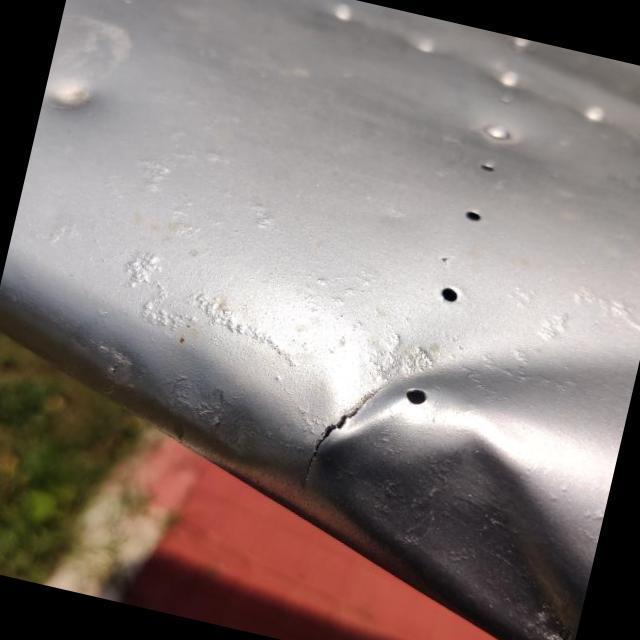Missing Fastener: (430, 276, 466, 314), (402, 373, 434, 411), (458, 196, 488, 234), (474, 151, 502, 181)
dent: (299, 344, 639, 640), (50, 75, 110, 127)
